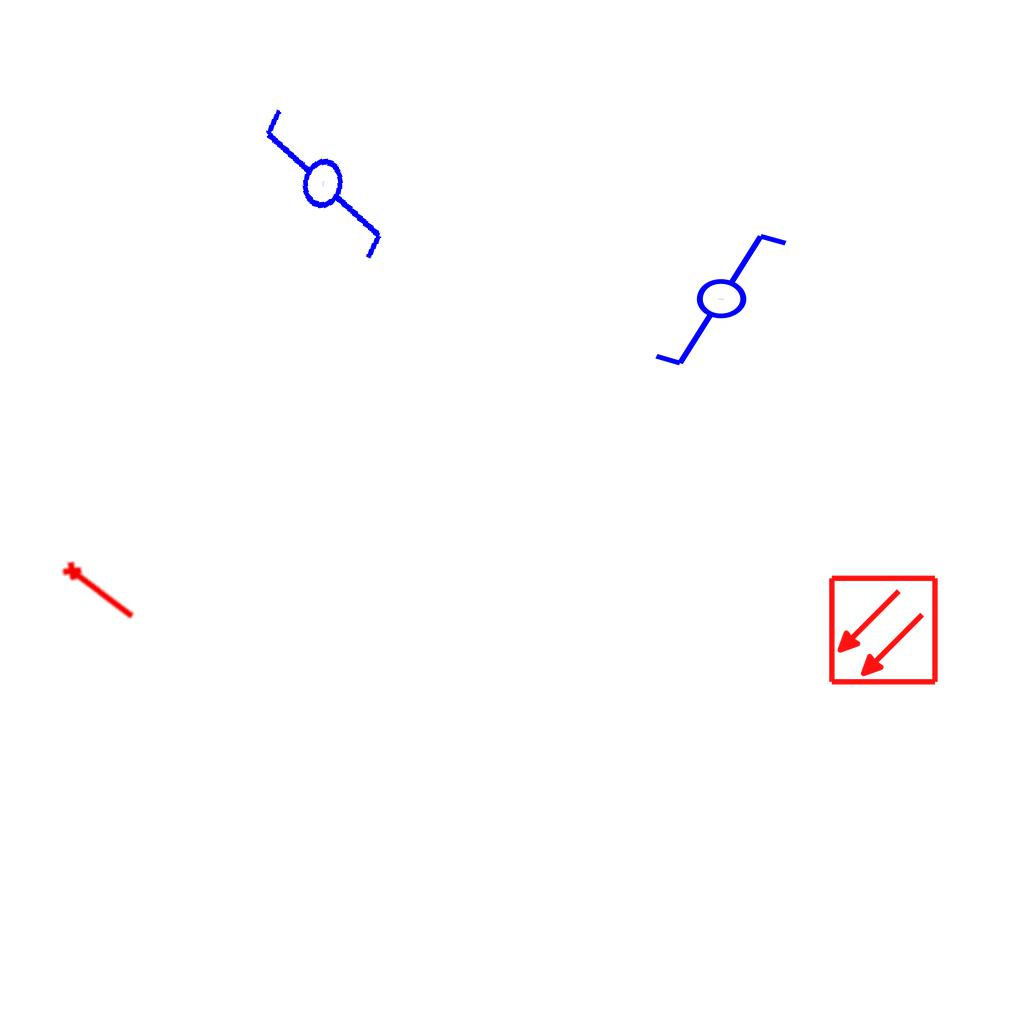ASR_Ansaugoeffnung: (57, 554, 143, 627)
RMO_Rauchmelder_optischer: (827, 574, 940, 687)
Wechselschalter: (241, 86, 412, 266), (651, 229, 808, 373)
